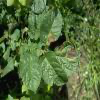Potato leaf: (40, 50, 69, 88), (19, 48, 40, 95), (27, 5, 50, 41)
Potato leaf early blight: (54, 41, 82, 77), (40, 7, 63, 45)
